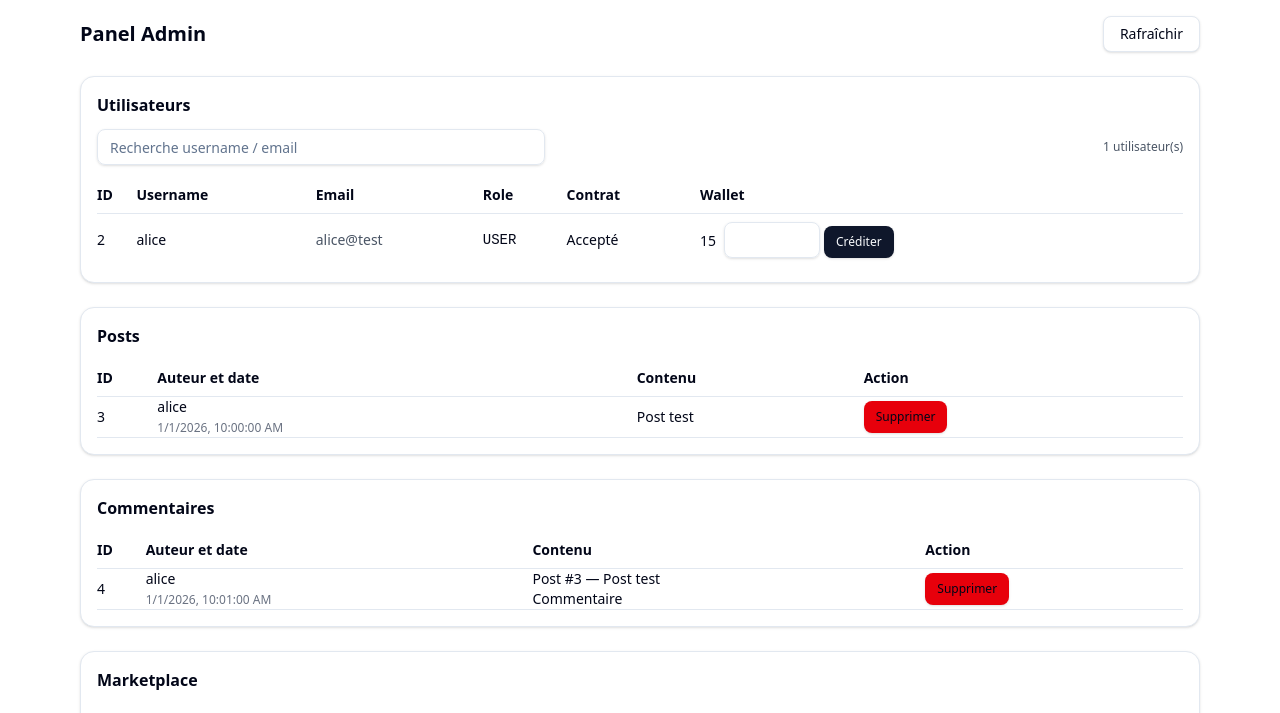
Scenario: Admin › confirms before deleting moderated content and refreshes its lists
Check: the text "Post test" is shown, box left=637, top=397, right=864, bottom=438
Click the button "Supprimer" in the row of "1/1/2026, 10:00:00 AM" at {"x": 906, "y": 417}, box left=864, top=401, right=947, bottom=433
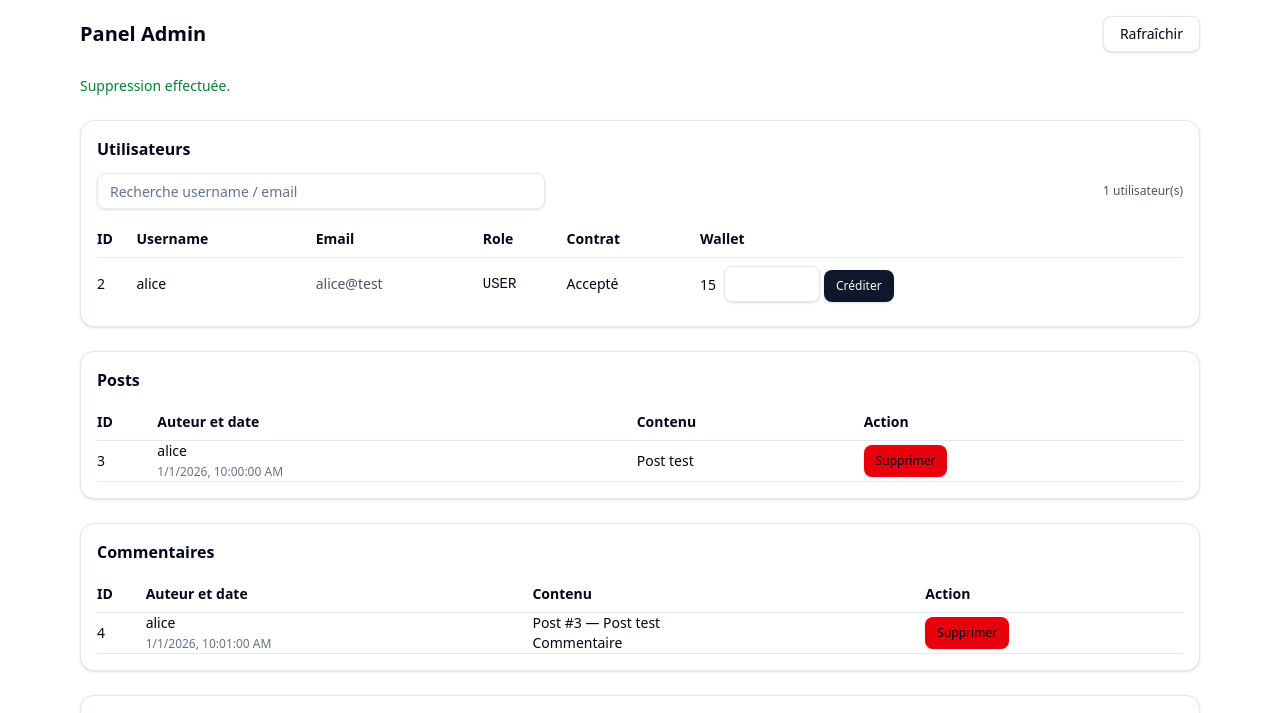
Check: the text "Suppression effectuée." is shown, box left=80, top=76, right=230, bottom=95
